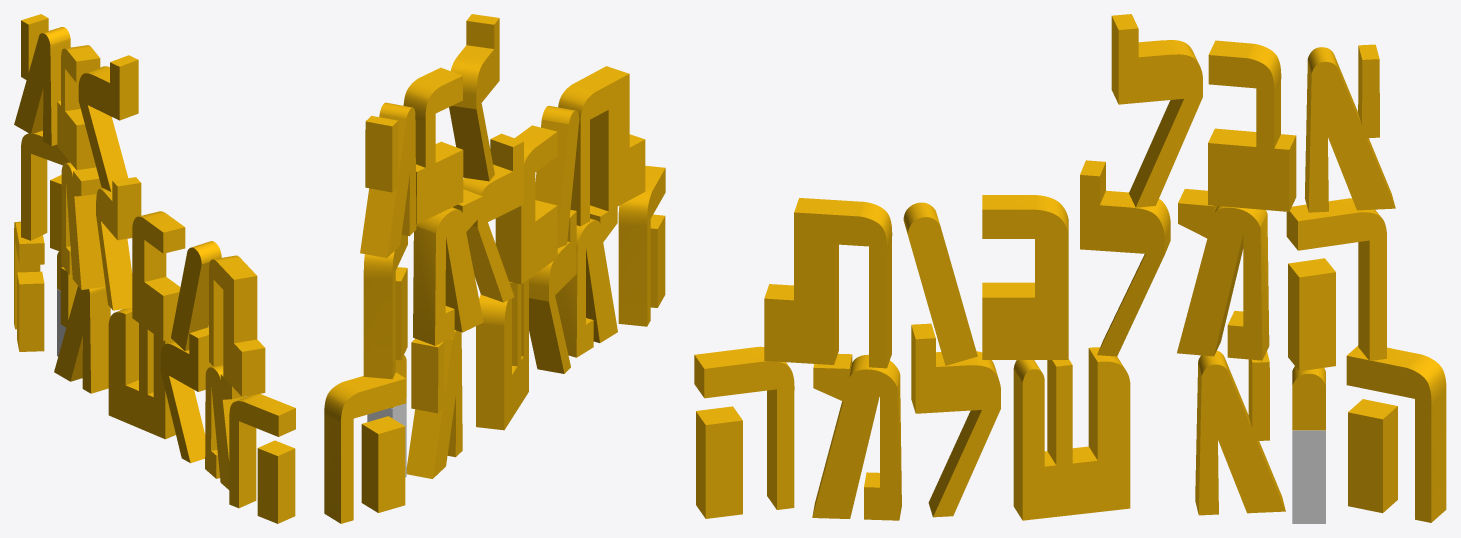
Rendered from 21_title.gltf.
The picture shows the model from 3 angles, left to right: view 1: azimuth 30°, elevation 25°; view 2: azimuth 150°, elevation 25°; view 3: azimuth 270°, elevation 25°; orthographic projection. The views are drawn at different scales.
Parts seen in each view (by area): view 1: Cap 1 (×15), כתום.6, כתום, כתום.9, כתום.5, כתום.12, כתום.10, כתום.8, כתום.4, כתום.2, כתום.14, כתום.13 (+4 smaller); view 2: Cap 1 (×15), כתום, כתום.14, כתום.5, כתום.3, כתום.11, כתום.4, כתום.12, כתום.6, כתום.10, כתום.2, כתום.9 (+4 smaller); view 3: Cap 2 (×17), כתום.5, כתום.3, כתום.11, כתום, כתום.6, כתום.12, כתום.13, כתום.10, כתום.2, כתום.8, כתום.14 (+3 smaller).
Boxes of the visible parts, x1,y1,x2,y2 form: Cap 1 (×15): (14,20,278,523); כתום.6: (213,255,265,396); כתום: (236,394,295,523); כתום.9: (100,177,141,310); כתום.5: (15,221,44,351); כתום.12: (85,55,138,191); כתום.10: (66,162,105,289); כתום.8: (139,211,185,340); כתום.4: (61,267,110,393); כתום.2: (167,327,212,462); כתום.14: (21,14,70,145); כתום.13: (57,45,100,169); Cap 1 (×15): (341,18,665,523); כתום: (618,165,665,326); כתום.14: (360,102,412,257); כתום.5: (324,372,405,523); כתום.3: (476,281,523,430); כתום.11: (363,251,407,379); כתום.4: (406,330,455,478); כתום.12: (449,14,499,181); כתום.6: (558,66,644,226); כתום.10: (413,189,482,345); כתום.2: (529,210,576,373); כתום.9: (463,133,523,302); Cap 2 (×17): (704,28,1431,523); כתום.5: (1347,345,1446,522); כתום.3: (1013,347,1124,519); כתום.11: (1286,198,1381,370); כתום: (694,346,788,518); כתום.6: (764,198,892,367); כתום.12: (1111,14,1198,207); כתום.13: (1208,40,1296,211); כתום.10: (1178,189,1269,359); כתום.2: (911,323,998,516); כתום.8: (982,195,1068,297); כתום.14: (1305,44,1395,211).
Size of the model in its own units: 445 by 3061 by 4311.
